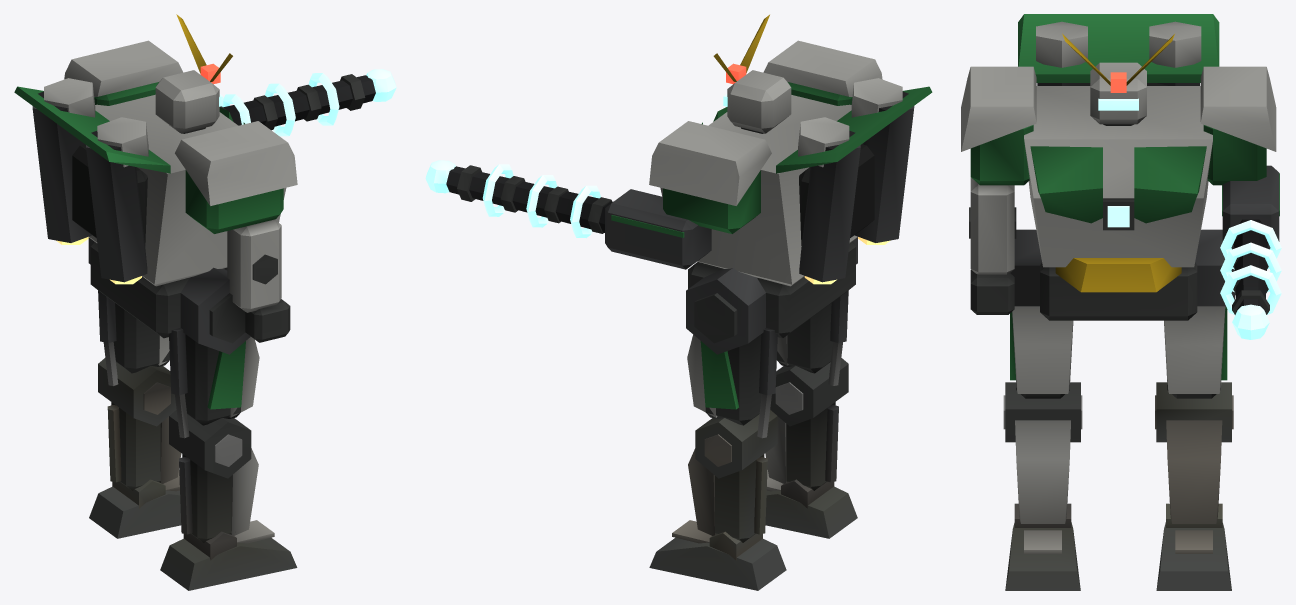
Rendered from u_raijin_lod1.glb.
The picture shows the model from 3 angles, left to right: view 1: azimuth 30°, elevation 25°; view 2: azimuth 150°, elevation 25°; view 3: azimuth 270°, elevation 25°; orthographic projection. The views are drawn at different scales.
Parts seen in each view (by area): view 1: Raijin_LOD1_Walls, Raijin_LOD1_shL, Raijin_LOD1_shR, Raijin_LOD1_thL, Raijin_LOD1_Details, Raijin_LOD1_thR; view 2: Raijin_LOD1_Walls, Raijin_LOD1_shR, Raijin_LOD1_thR, Raijin_LOD1_shL, Raijin_LOD1_Details, Raijin_LOD1_thL; view 3: Raijin_LOD1_Walls, Raijin_LOD1_shL, Raijin_LOD1_shR, Raijin_LOD1_Details, Raijin_LOD1_thR, Raijin_LOD1_thL.
Part boxes in pixels (x1,y1,x2,y2): Raijin_LOD1_Walls: [14, 40, 297, 342]; Raijin_LOD1_shL: [160, 410, 297, 590]; Raijin_LOD1_shR: [89, 358, 181, 538]; Raijin_LOD1_thL: [169, 267, 259, 438]; Raijin_LOD1_Details: [56, 14, 396, 284]; Raijin_LOD1_thR: [88, 237, 169, 385]; Raijin_LOD1_Walls: [605, 40, 932, 338]; Raijin_LOD1_shR: [649, 410, 786, 590]; Raijin_LOD1_thR: [686, 268, 777, 438]; Raijin_LOD1_shL: [765, 358, 857, 538]; Raijin_LOD1_Details: [425, 14, 890, 284]; Raijin_LOD1_thL: [777, 237, 857, 385]; Raijin_LOD1_Walls: [961, 14, 1279, 320]; Raijin_LOD1_shL: [1003, 382, 1082, 590]; Raijin_LOD1_shR: [1155, 382, 1233, 590]; Raijin_LOD1_Details: [969, 33, 1281, 339]; Raijin_LOD1_thR: [1164, 229, 1235, 398]; Raijin_LOD1_thL: [1010, 229, 1073, 398].
Size of the model in its own units: 1.55 by 1.88 by 1.02.
